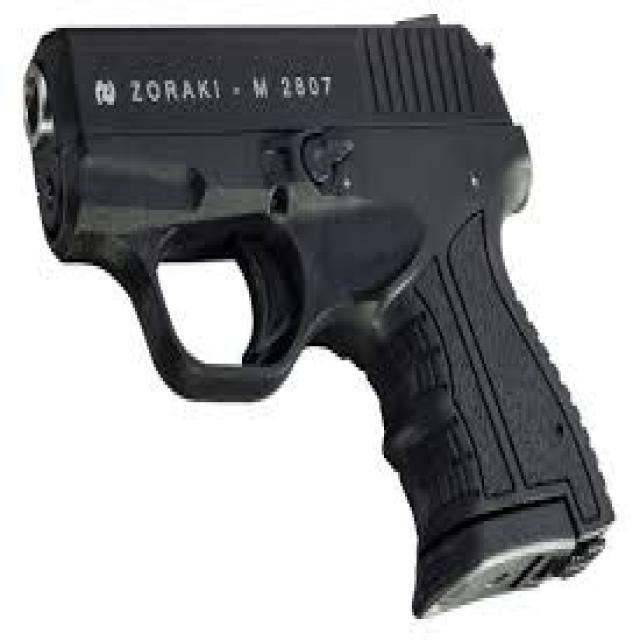pistol: (15, 6, 620, 627)
